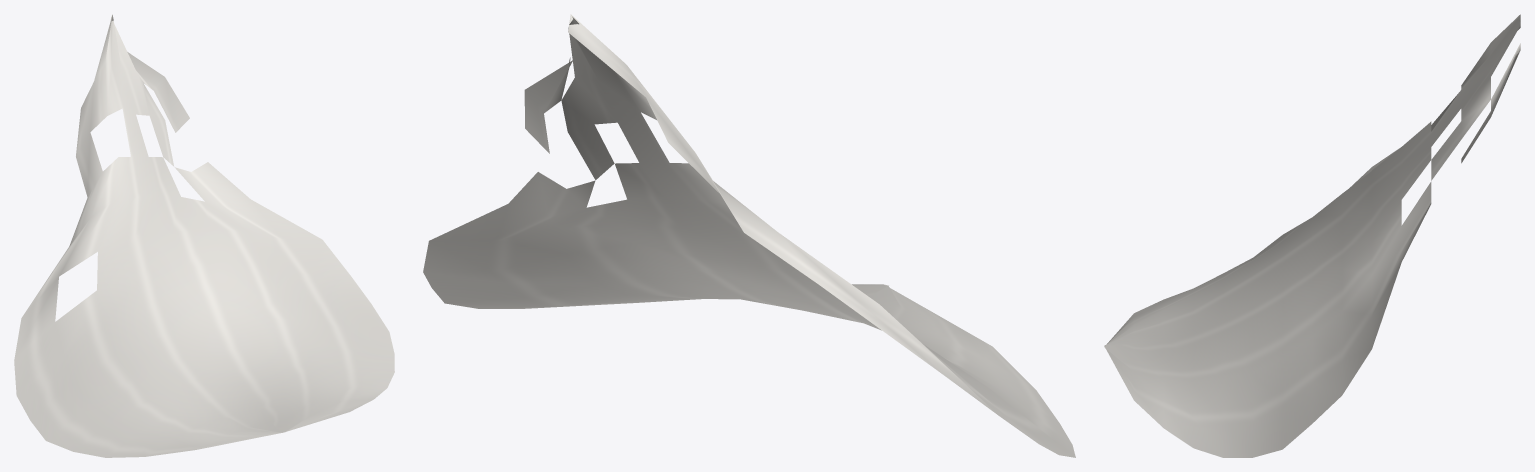
File: petal_19_broken.glb
The picture shows the model from 3 angles, left to right: view 1: azimuth 30°, elevation 25°; view 2: azimuth 150°, elevation 25°; view 3: azimuth 270°, elevation 25°; orthographic projection. The views are drawn at different scales.
Visible parts, largest first — view 1: petal_19_broken; view 2: petal_19_broken; view 3: petal_19_broken.
Boxes of the visible parts, left/top/right/bottom form: petal_19_broken: left=14, top=14, right=394, bottom=457; petal_19_broken: left=423, top=14, right=1075, bottom=457; petal_19_broken: left=1104, top=14, right=1520, bottom=457.
Size of the model in its own units: 0.0877 by 0.0712 by 0.075.
Materials: 1 (1 with a texture image).
